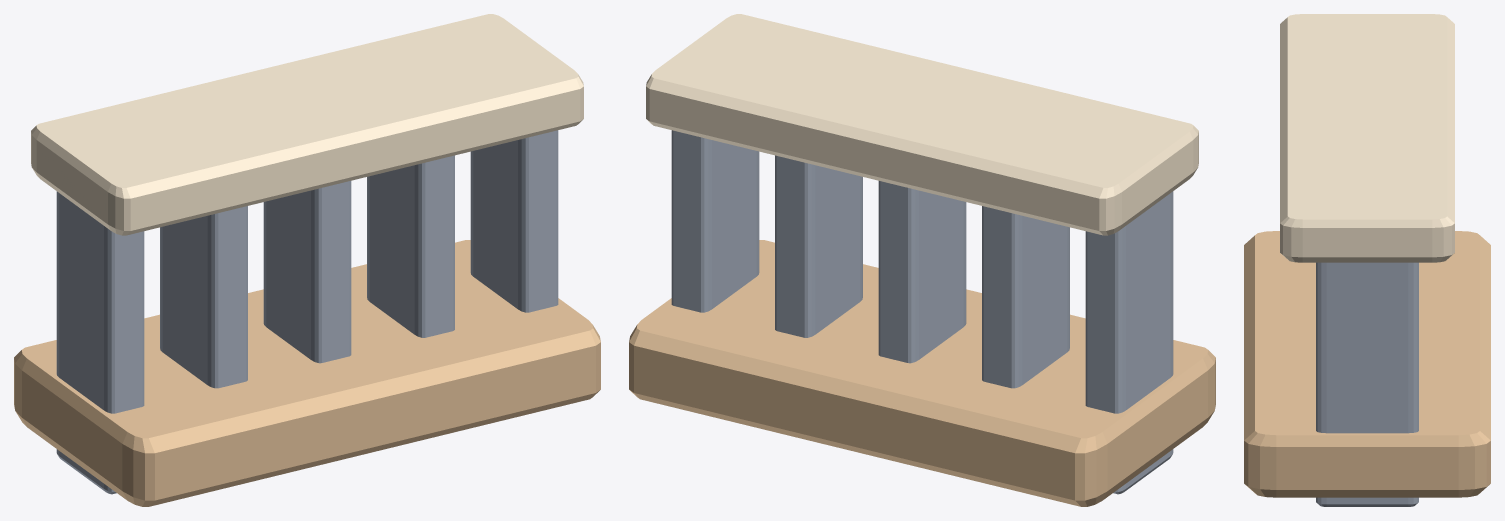
File: balcony.glb
The picture shows the model from 3 angles, left to right: view 1: azimuth 30°, elevation 25°; view 2: azimuth 150°, elevation 25°; view 3: azimuth 270°, elevation 25°; orthographic projection. The views are drawn at different scales.
Parts seen in each view (by area): view 1: model; view 2: model; view 3: model.
Part boxes in pixels (x1,y1,x2,y2): model: (14, 14, 600, 506); model: (629, 14, 1215, 506); model: (1244, 14, 1490, 506).
Bounding box in the file's own units: 1 × 0.65 × 0.5.
